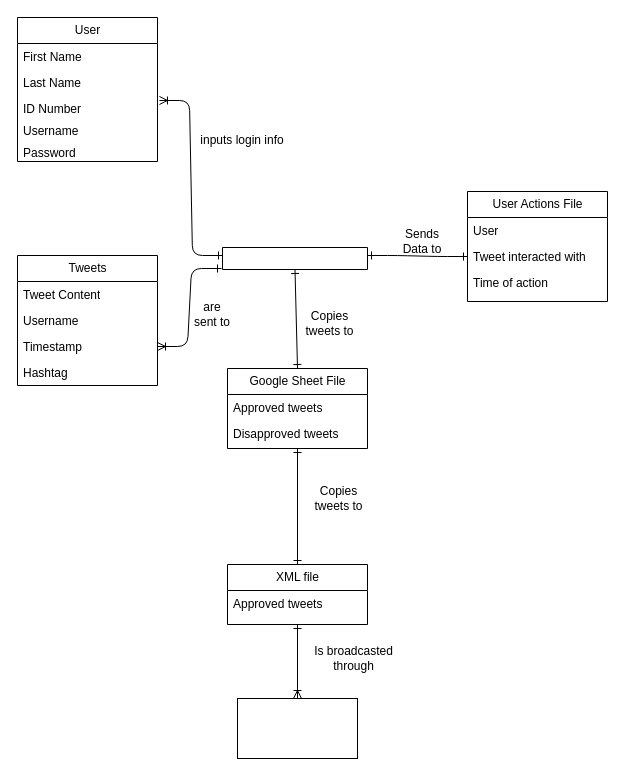
Some shapes in this 625 by 776 pixel diagram are drawn without their labels. The shapes that lost their labels are listed below. From the top down, each one's centre as x and y in pixels, then its label:
At (295,258): "Phantom Software".
At (297,728): "Broadcast system".
